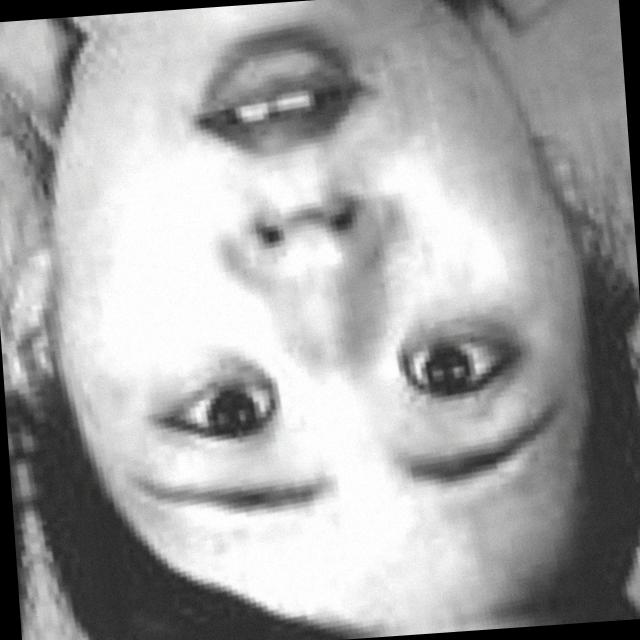fear: (67, 0, 527, 619)
